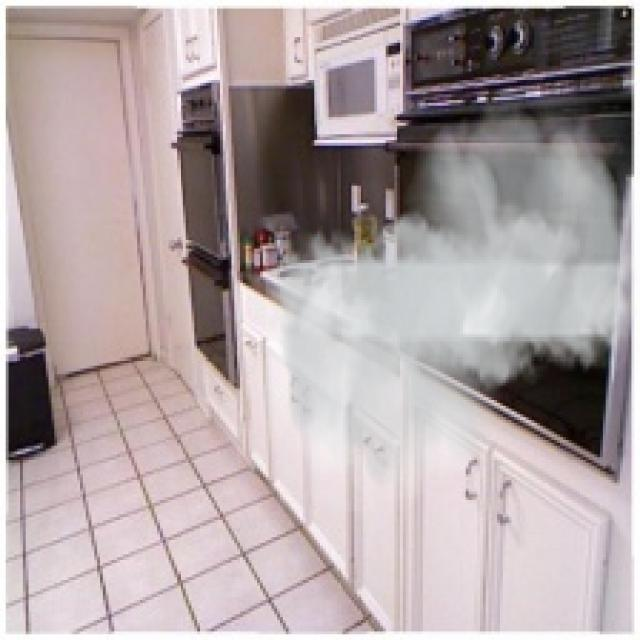smoke: (266, 89, 637, 514)
